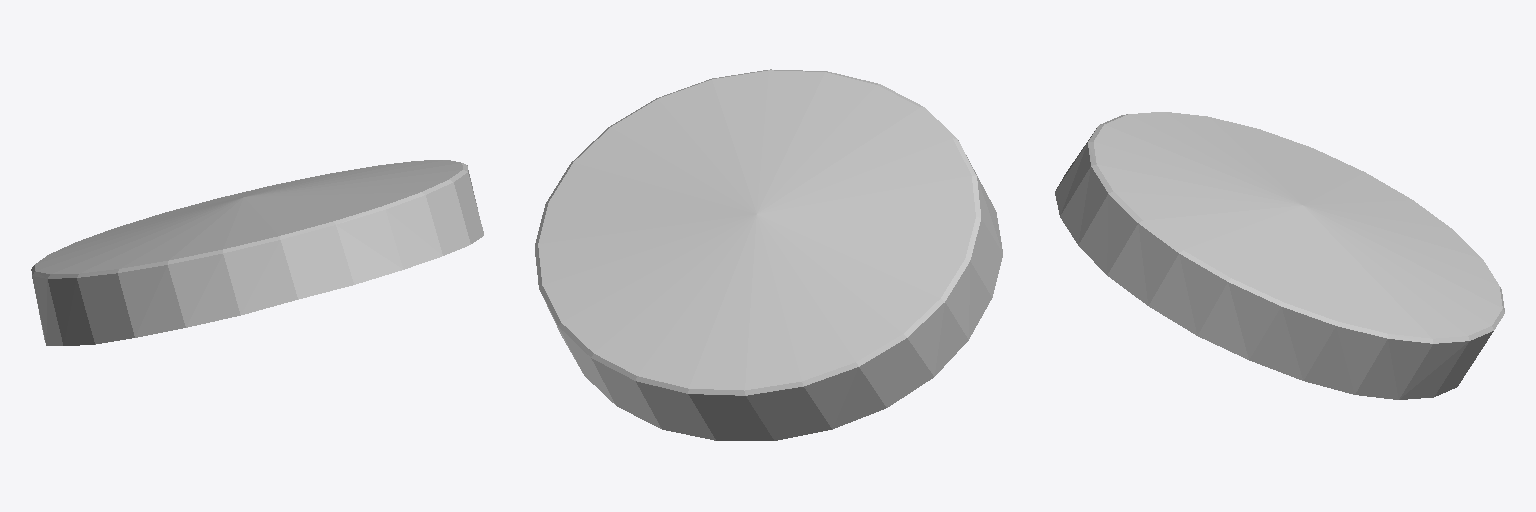
File: right_a_button.obj
3 views of the same model, side by side, from view 1: azimuth 30°, elevation 25°; view 2: azimuth 150°, elevation 25°; view 3: azimuth 270°, elevation 25° (orthographic).
Visible parts, largest first — view 1: right_a_button; view 2: right_a_button; view 3: right_a_button.
Boxes of the visible parts, x1=… form: right_a_button: x1=31, y1=160, x2=483, y2=345; right_a_button: x1=535, y1=69, x2=1002, y2=440; right_a_button: x1=1055, y1=112, x2=1504, y2=399.
Size of the model in its own units: 0.0108 by 0.0057 by 0.0107.